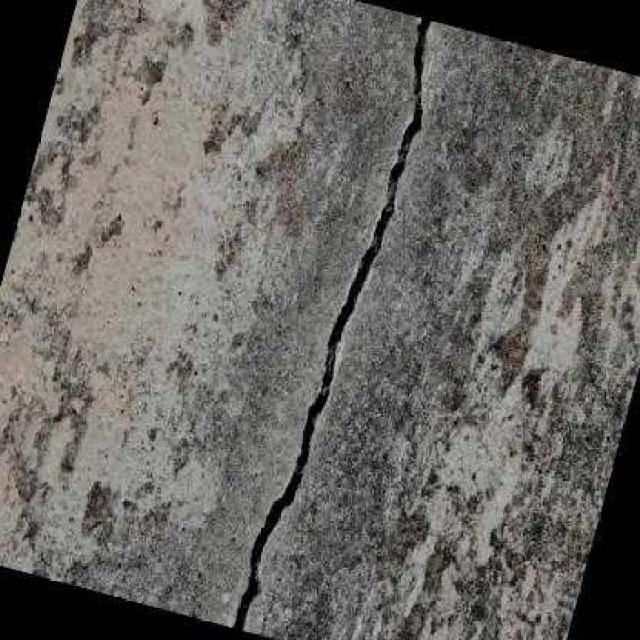D00: (228, 15, 433, 630)
